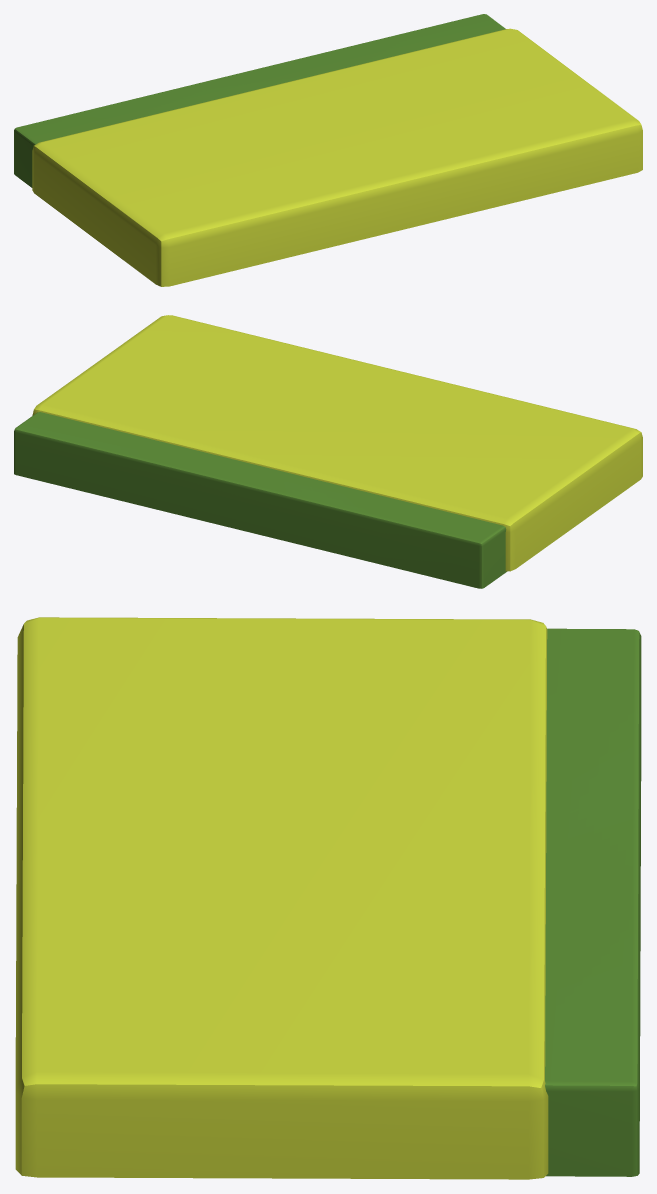
The model's file is base_start.fbx.
The picture shows the model from 3 angles, top to bottom: view 1: azimuth 30°, elevation 25°; view 2: azimuth 150°, elevation 25°; view 3: azimuth 270°, elevation 25°; orthographic projection. The views are drawn at different scales.
Visible parts, largest first — view 1: base_start; view 2: base_start; view 3: base_start.
Boxes of the visible parts, x1=… form: base_start: x1=14, y1=14, x2=642, y2=286; base_start: x1=14, y1=315, x2=642, y2=588; base_start: x1=15, y1=617, x2=641, y2=1179.
Size of the model in its own units: 3522 by 349 by 1973.
